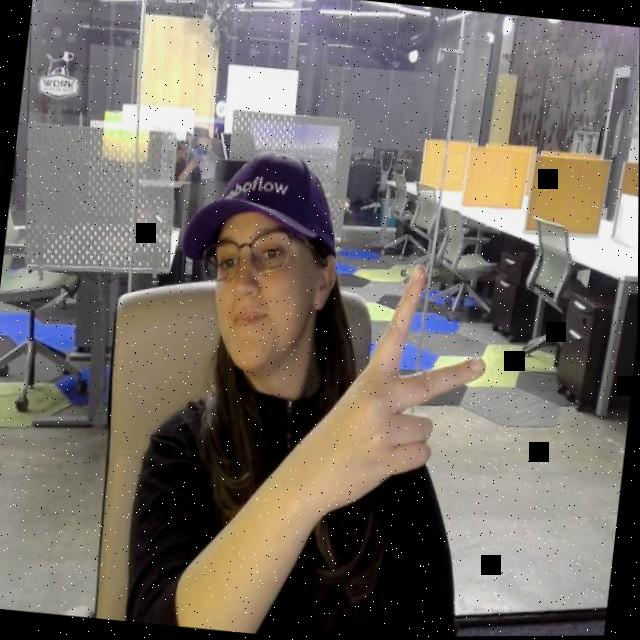Scissors: (306, 250, 499, 532)
